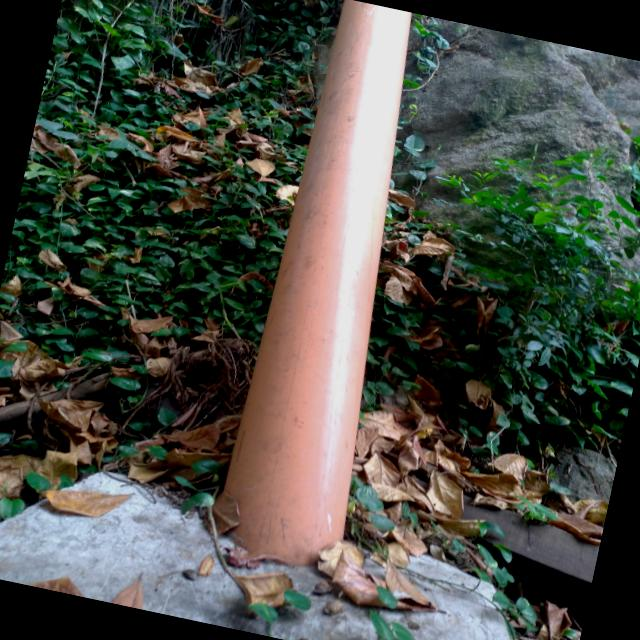gas: (214, 0, 453, 567)
